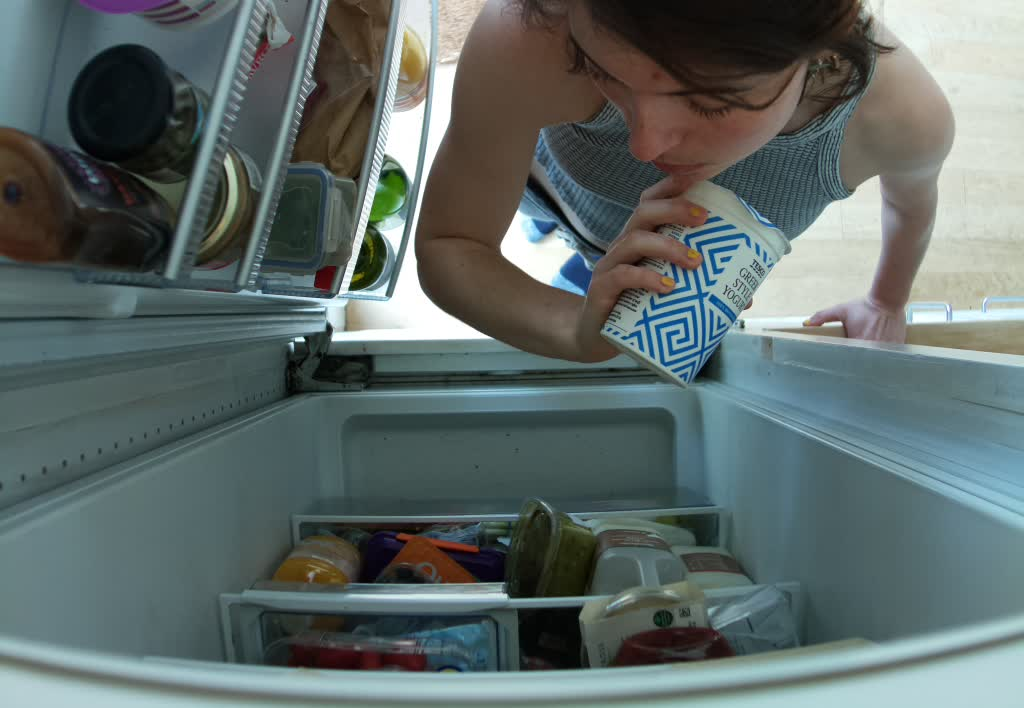yogurt: (587, 168, 796, 391)
